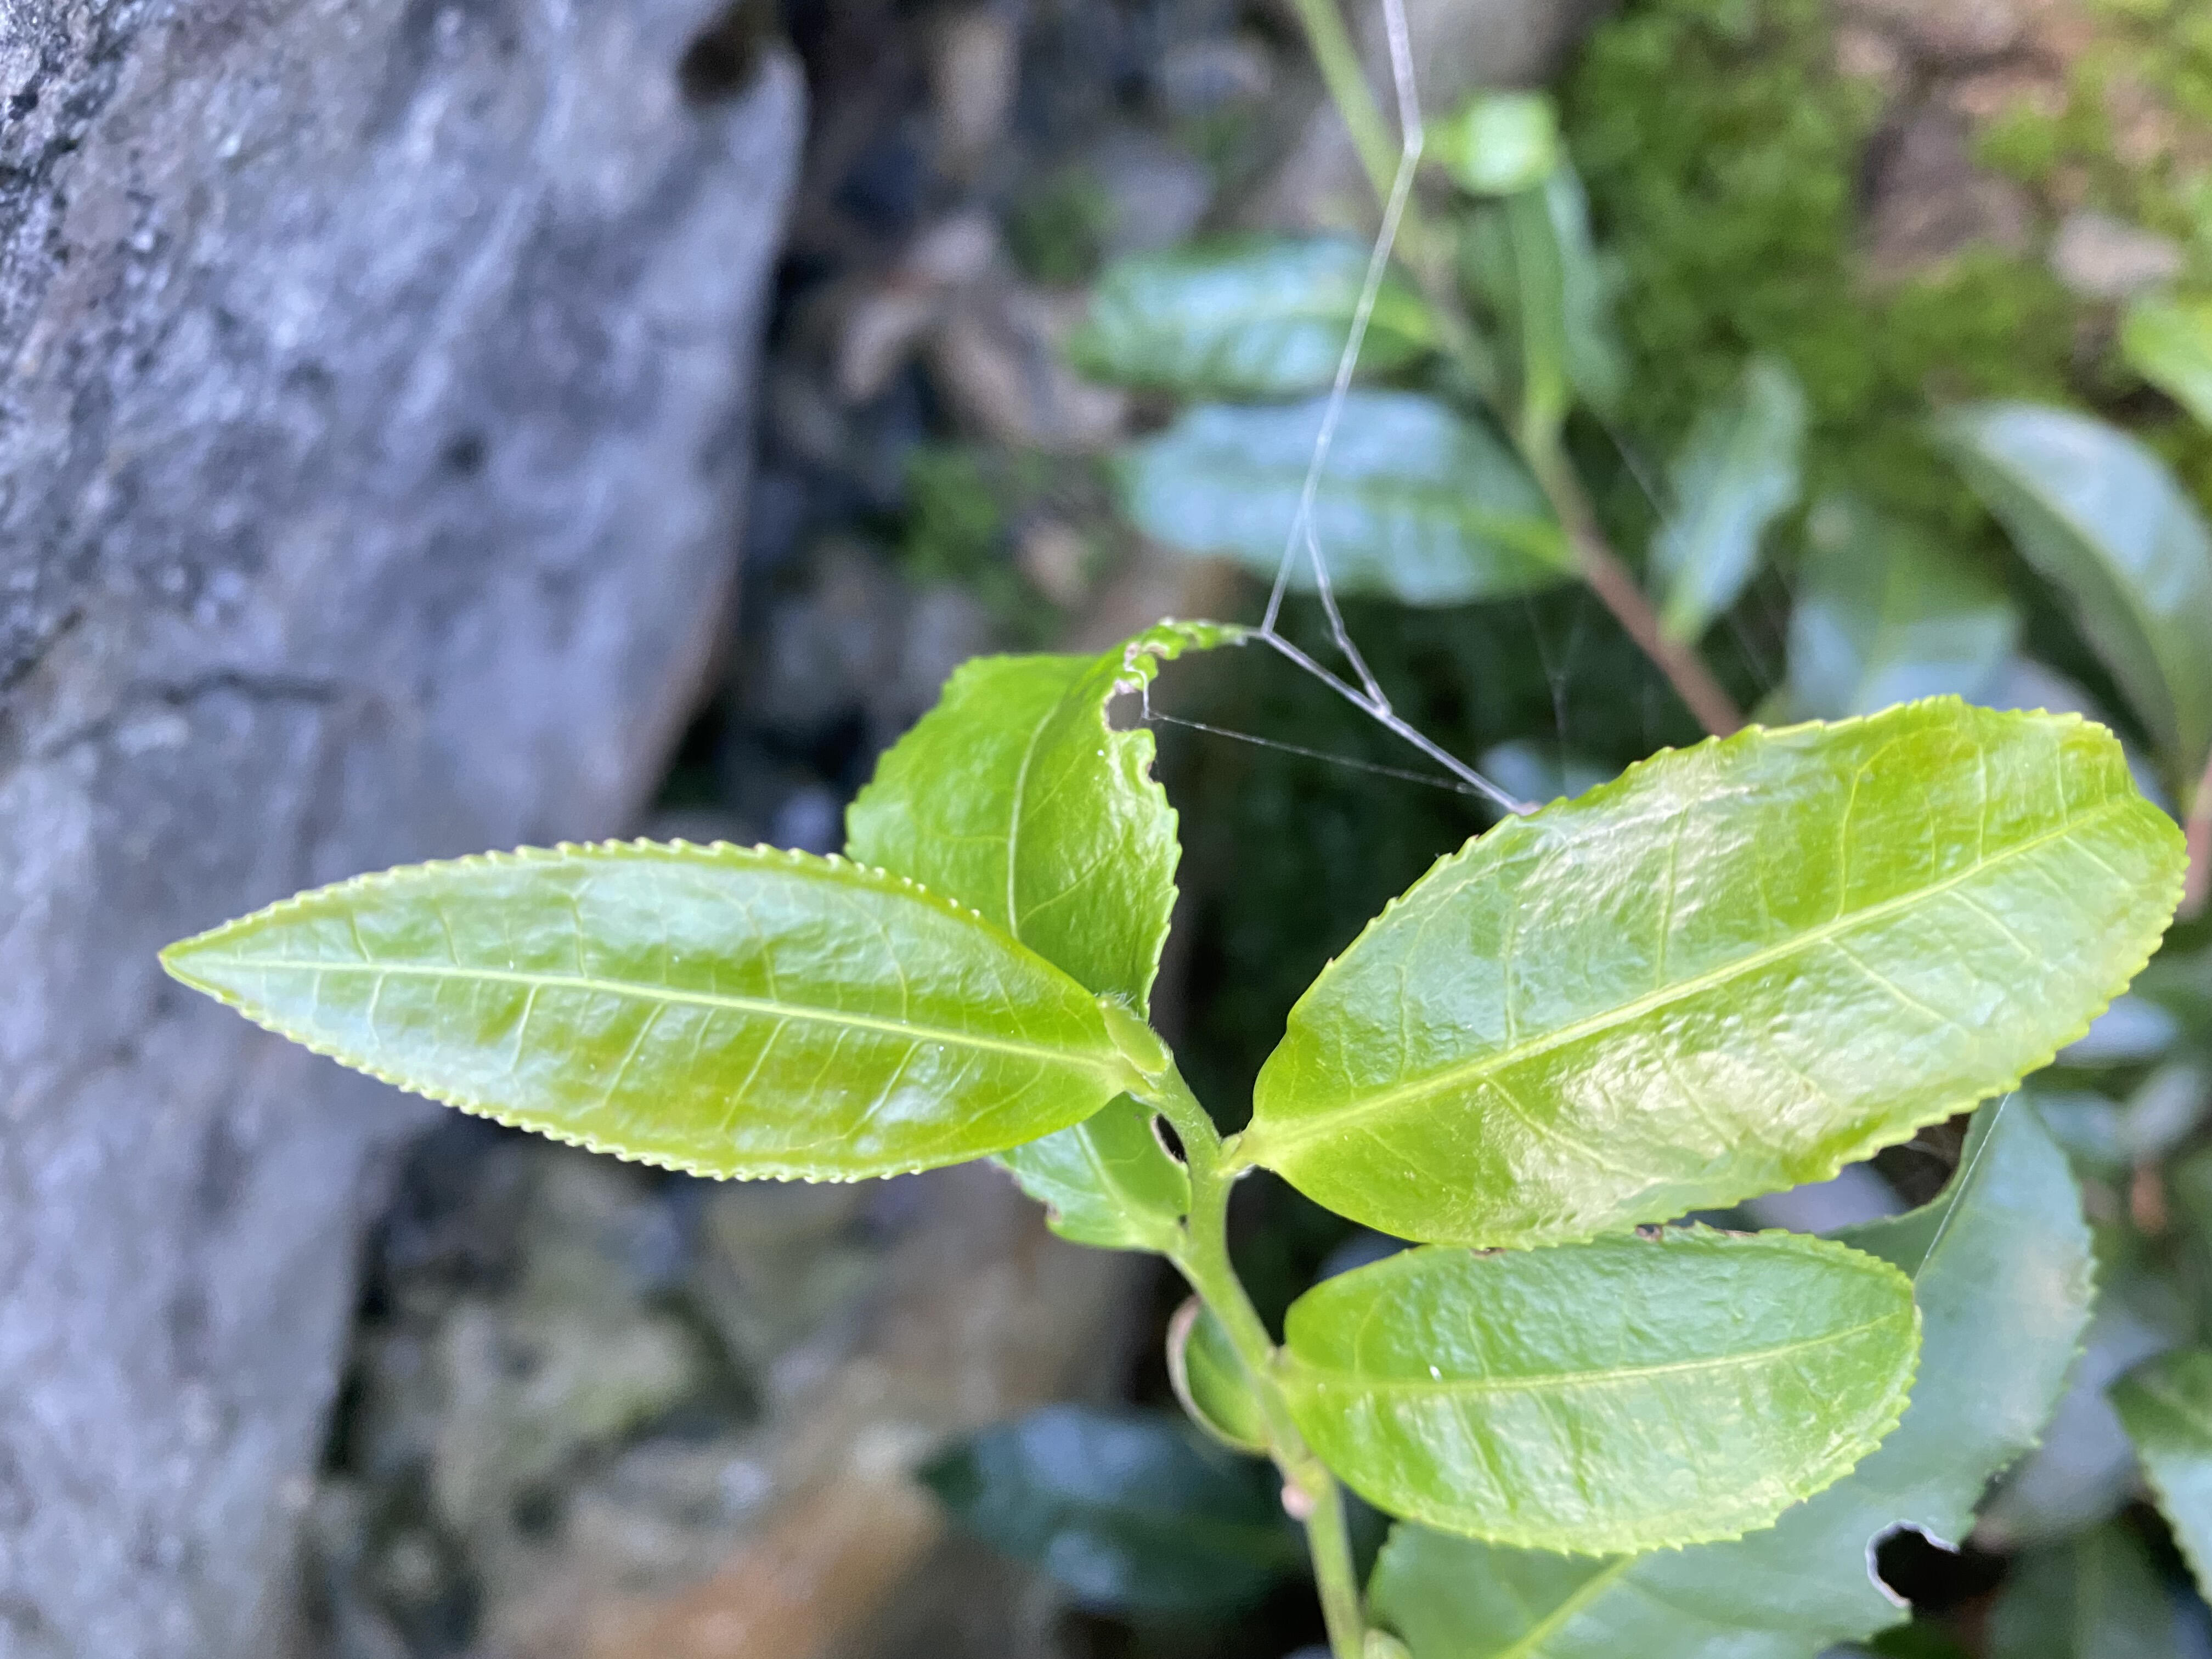chihuo_high: (843, 617, 1245, 1258)
chihuo_low: (1360, 1101, 2107, 1654)
healthy: (1254, 692, 2196, 1253), (155, 835, 1120, 1190), (1280, 1232, 1921, 1563)
